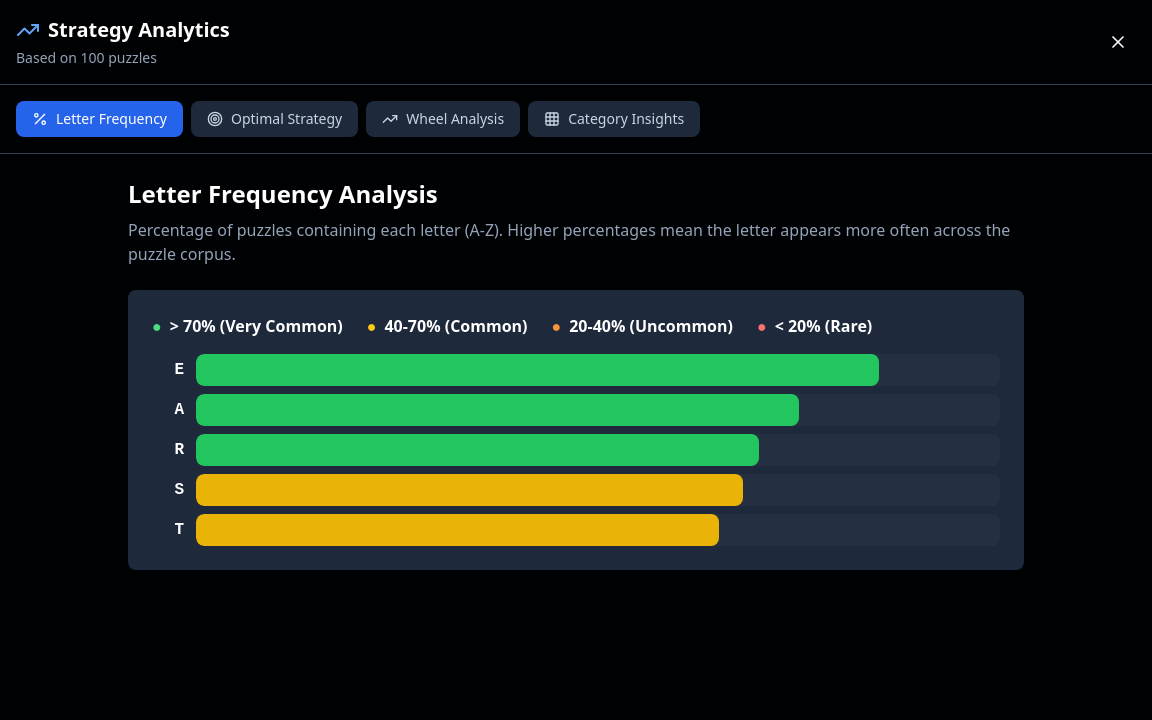
StrategyDashboard › should display category insights
Click the button "Category Insights" at (614, 119), box [528,101,700,137]
(page scrolled)
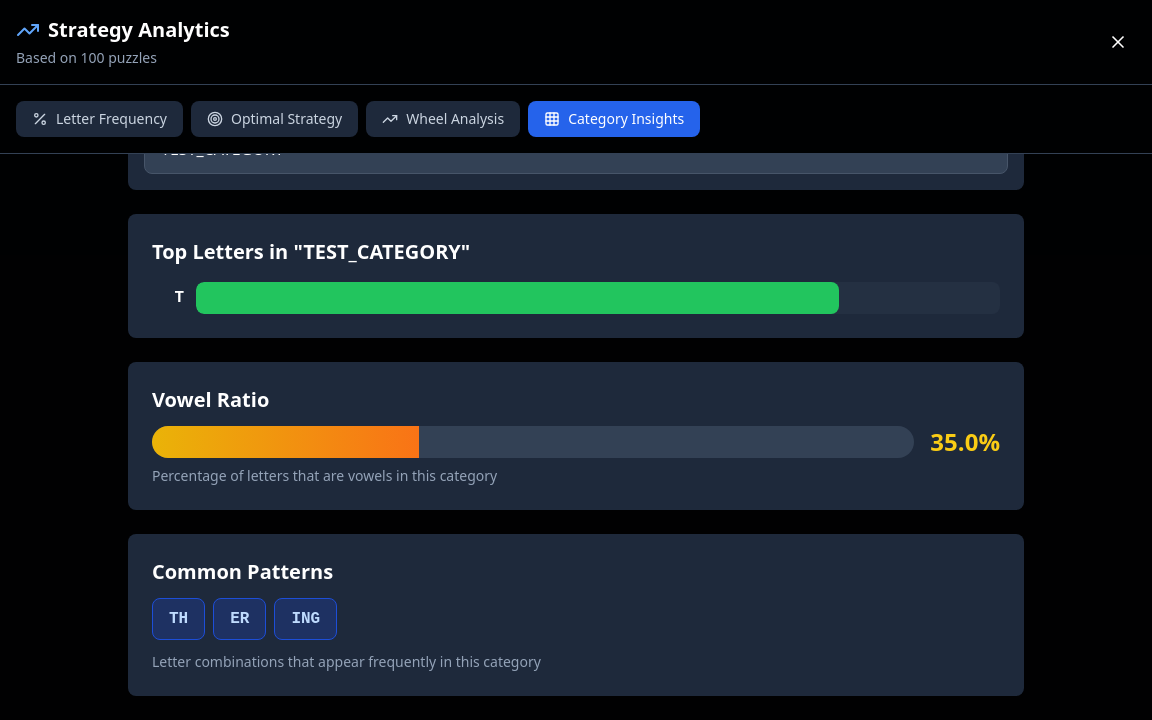
Expected: the heading "Vowel Ratio" is shown, [152,386,269,413]
Expected: the heading "Common Patterns" is shown, [152,558,333,585]
